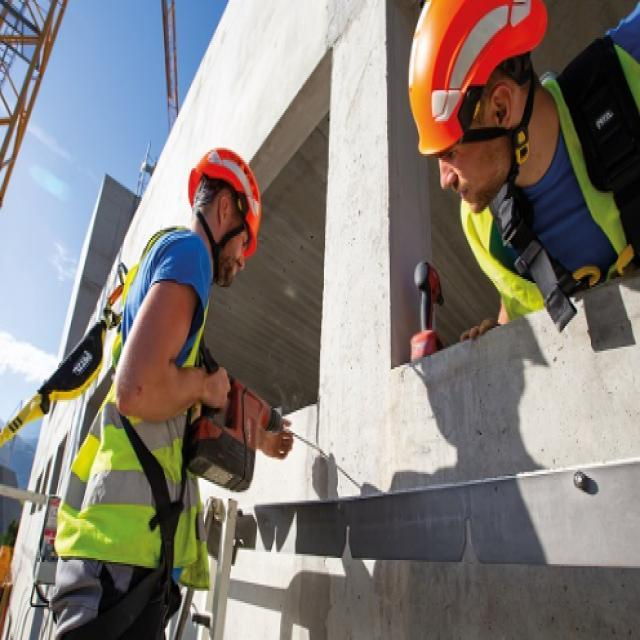hard_hat: (405, 0, 548, 217)
vest: (451, 30, 640, 383), (50, 218, 218, 596)
